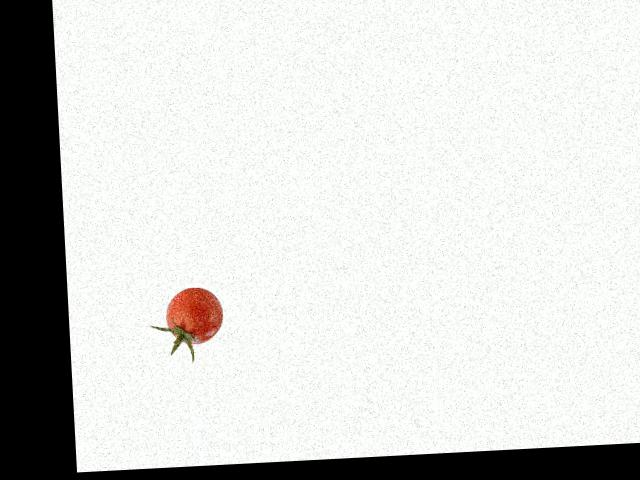tomato: (165, 285, 225, 344)
